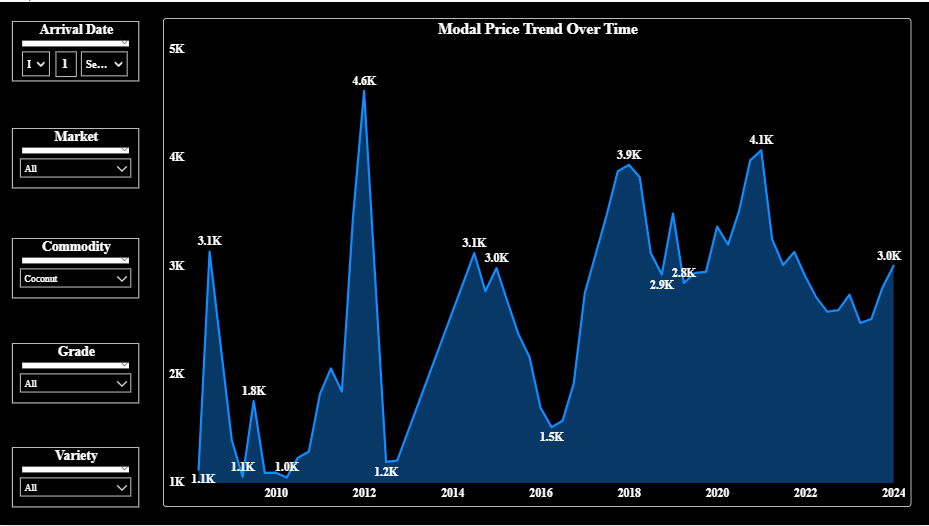

Layout of this report page (visuals, bound fields, positions):
{"tool":"powerbi","page":{"name":"Modal Price Trend Over Time","canvas":[1280,720],"ordinal":3},"visuals":[{"type":"areaChart","title":"Modal Price Trend Over Time","fields":{"Category":["Market Sales Data.Arrival_Date.Variation.Date Hierarchy.Year","Market Sales Data.Arrival_Date.Variation.Date Hierarchy.Quarter","Market Sales Data.Arrival_Date.Variation.Date Hierarchy.Month","Market Sales Data.Arrival_Date.Variation.Date Hierarchy.Day"],"Y":["Market Sales Data.Average Modal Price"]},"box":[224.3,22,1029.5,673],"z":0},{"type":"slicer","title":"Arrival Date","fields":{"Values":["Market Sales Data.Arrival_Date"]},"box":[16.5,26.2,174.8,82.6],"z":6000},{"type":"slicer","title":"Market","fields":{"Values":["Market Sales Data.Market"]},"box":[16.5,173.4,174.8,82.6],"z":7000},{"type":"slicer","title":"Commodity","fields":{"Values":["Market Sales Data.Commodity"]},"box":[16.5,324.8,174.8,82.6],"z":8000},{"type":"slicer","title":"Grade","fields":{"Values":["Market Sales Data.Grade"]},"box":[16.5,469.3,174.8,82.6],"z":9000},{"type":"slicer","title":"Variety","fields":{"Values":["Market Sales Data.Variety"]},"box":[16.5,612.5,174.8,82.6],"z":10000}]}

Visuals, with their boxes in screenshot pixels (x1, y1, x2, y2), scaled from the page's 1280x720 canvas onto the 929x526 screenshot:
"Modal Price Trend Over Time" areaChart: 163:16:910:508
"Arrival Date" slicer: 12:19:139:79
"Market" slicer: 12:127:139:187
"Commodity" slicer: 12:237:139:298
"Grade" slicer: 12:343:139:403
"Variety" slicer: 12:447:139:508
